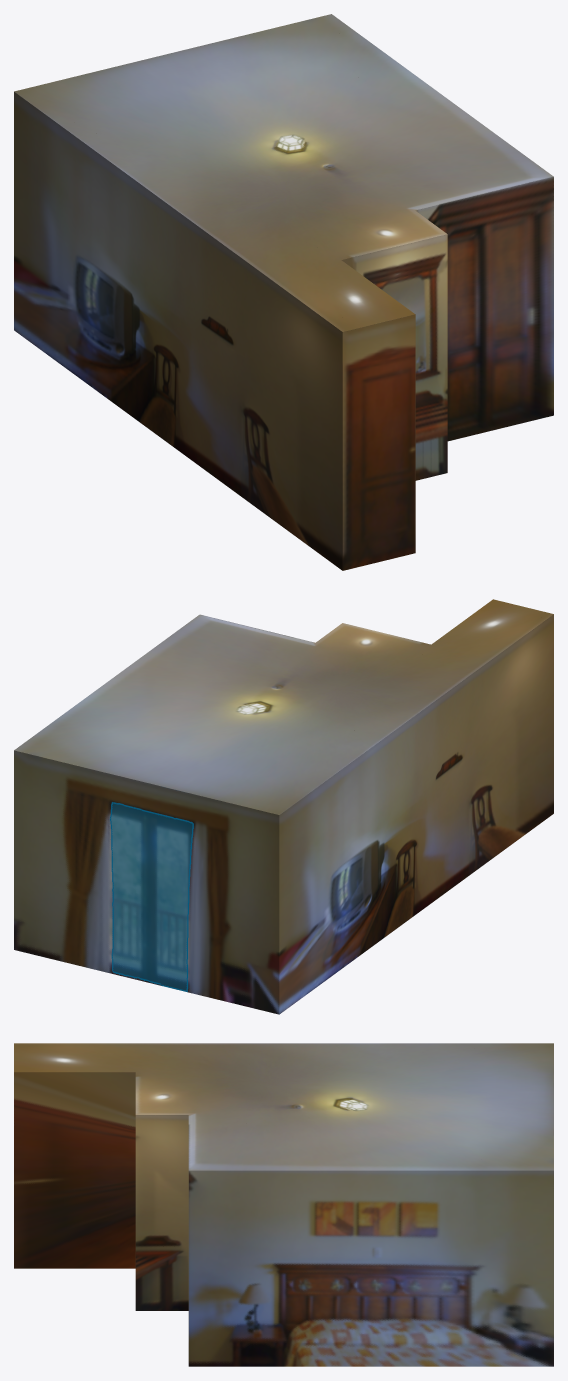
File: room.obj
The picture shows the model from 3 angles, top to bottom: view 1: azimuth 30°, elevation 25°; view 2: azimuth 150°, elevation 25°; view 3: azimuth 270°, elevation 25°; orthographic projection. The views are drawn at different scales.
Parts seen in each view (by area): view 1: ceiling, wall_02, wall_05, wall_01, wall_07; view 2: ceiling, wall_02, wall_03; view 3: wall_04, ceiling, wall_00, wall_06.
Boxes of the visible parts, x1=… form: ceiling: x1=14, y1=14, x2=553, y2=331; wall_02: x1=14, y1=92, x2=342, y2=570; wall_05: x1=415, y1=177, x2=553, y2=441; wall_01: x1=342, y1=314, x2=415, y2=570; wall_07: x1=341, y1=234, x2=447, y2=480; ceiling: x1=14, y1=599, x2=553, y2=814; wall_02: x1=279, y1=614, x2=553, y2=1014; wall_03: x1=14, y1=750, x2=279, y2=1014; wall_04: x1=188, y1=1170, x2=553, y2=1366; ceiling: x1=14, y1=1043, x2=553, y2=1170; wall_00: x1=14, y1=1072, x2=135, y2=1268; wall_06: x1=135, y1=1115, x2=188, y2=1310.
Size of the model in its own units: 3.09 by 2.22 by 5.53.
10 materials, 10 textured.
